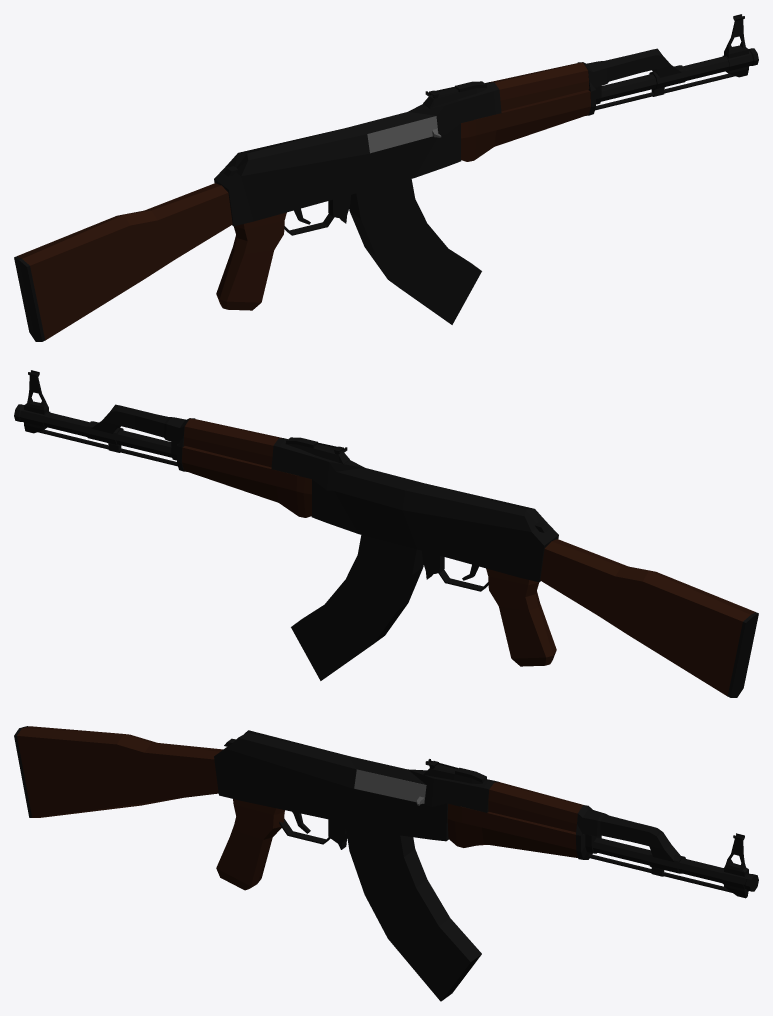
File: Tabasco_AK47.obj
3 views of the same model, one above another, from view 1: azimuth 30°, elevation 25°; view 2: azimuth 150°, elevation 25°; view 3: azimuth 330°, elevation 25° (orthographic).
Visible parts, largest first — view 1: Cube; view 2: Cube; view 3: Cube.
Boxes of the visible parts, x1,y1,x2,y2 form: Cube: (14, 14, 758, 341); Cube: (14, 370, 758, 697); Cube: (14, 726, 758, 1001).
Bounding box in the file's own units: 9.4 × 2.86 × 0.4418.
